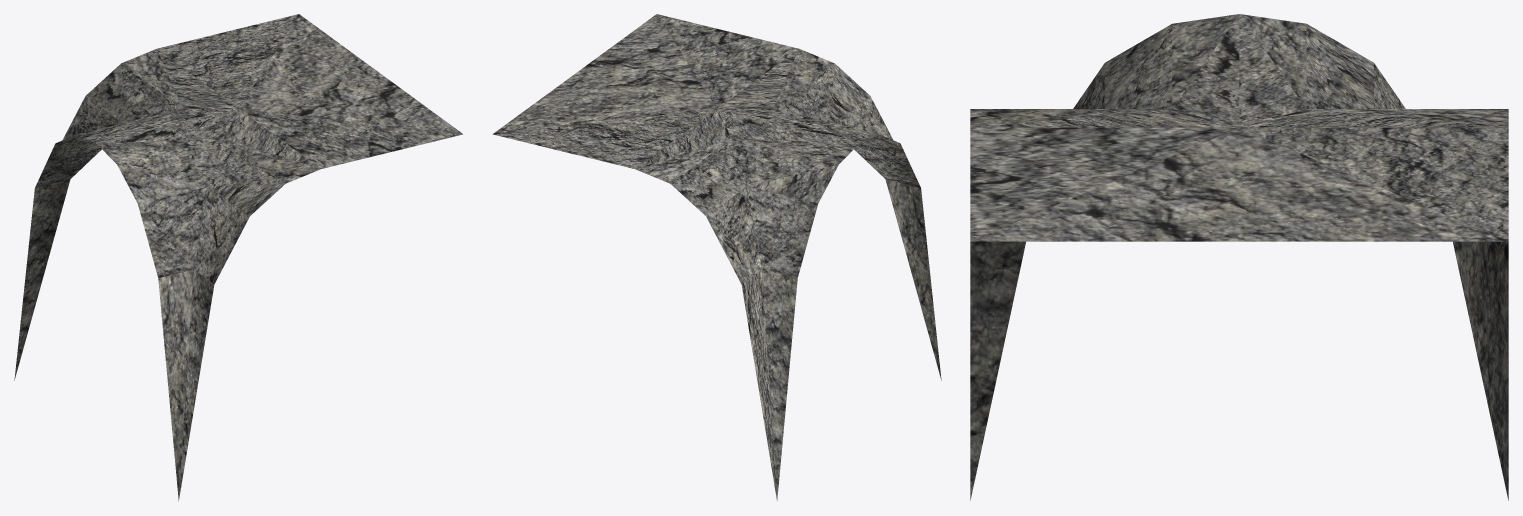
File: Stone4c.obj
3 views of the same model, side by side, from view 1: azimuth 30°, elevation 25°; view 2: azimuth 150°, elevation 25°; view 3: azimuth 270°, elevation 25° (orthographic). The views are drawn at different scales.
Visible parts, largest first — view 1: Grid_Grid.020_Grid_Grid.039; view 2: Grid_Grid.020_Grid_Grid.039; view 3: Grid_Grid.020_Grid_Grid.039.
Boxes of the visible parts, bbox=[...] form: Grid_Grid.020_Grid_Grid.039: bbox=[14, 14, 463, 501]; Grid_Grid.020_Grid_Grid.039: bbox=[492, 14, 941, 501]; Grid_Grid.020_Grid_Grid.039: bbox=[970, 14, 1508, 500].
Size of the model in its own units: 1 by 1 by 1.
Materials: 1 (1 with a texture image).
